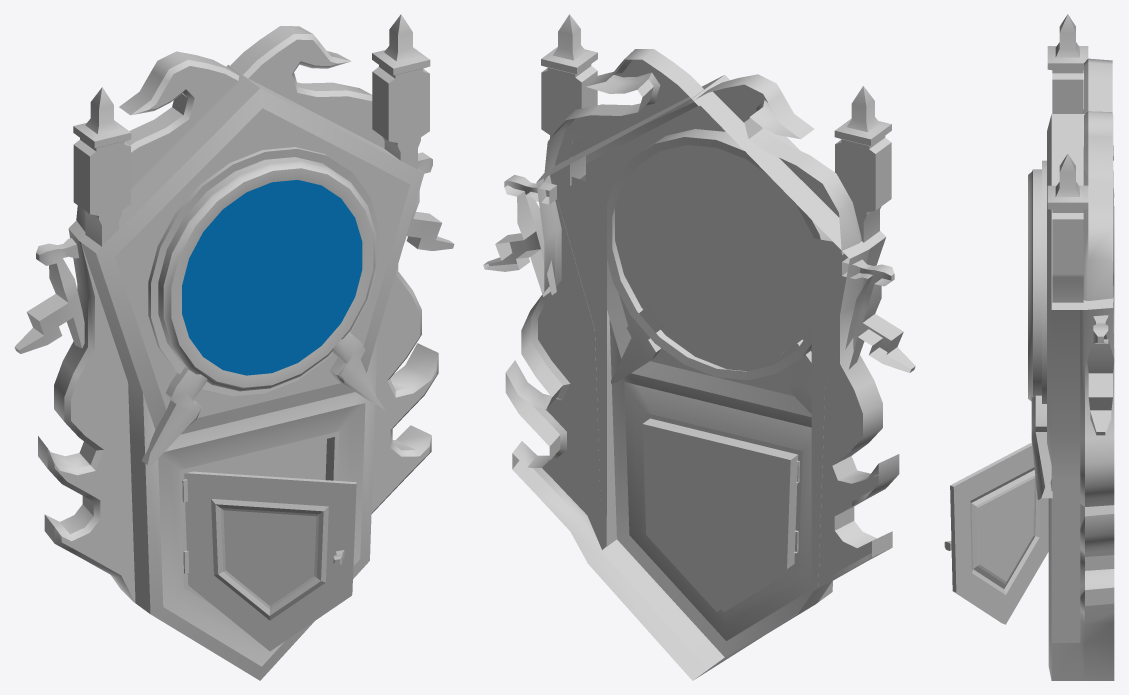
Rendered from Mad Wall Clock 01.fbx.
3 views of the same model, side by side, from view 1: azimuth 30°, elevation 25°; view 2: azimuth 150°, elevation 25°; view 3: azimuth 270°, elevation 25° (orthographic). The views are drawn at different scales.
Parts seen in each view (by area): view 1: Plane; view 2: Plane; view 3: Plane.
Part boxes in pixels (x1,y1,x2,y2): Plane: (14, 14, 454, 680); Plane: (483, 14, 915, 680); Plane: (944, 14, 1114, 680).
Bounding box in the file's own units: 63.71 × 87.29 × 22.52.
